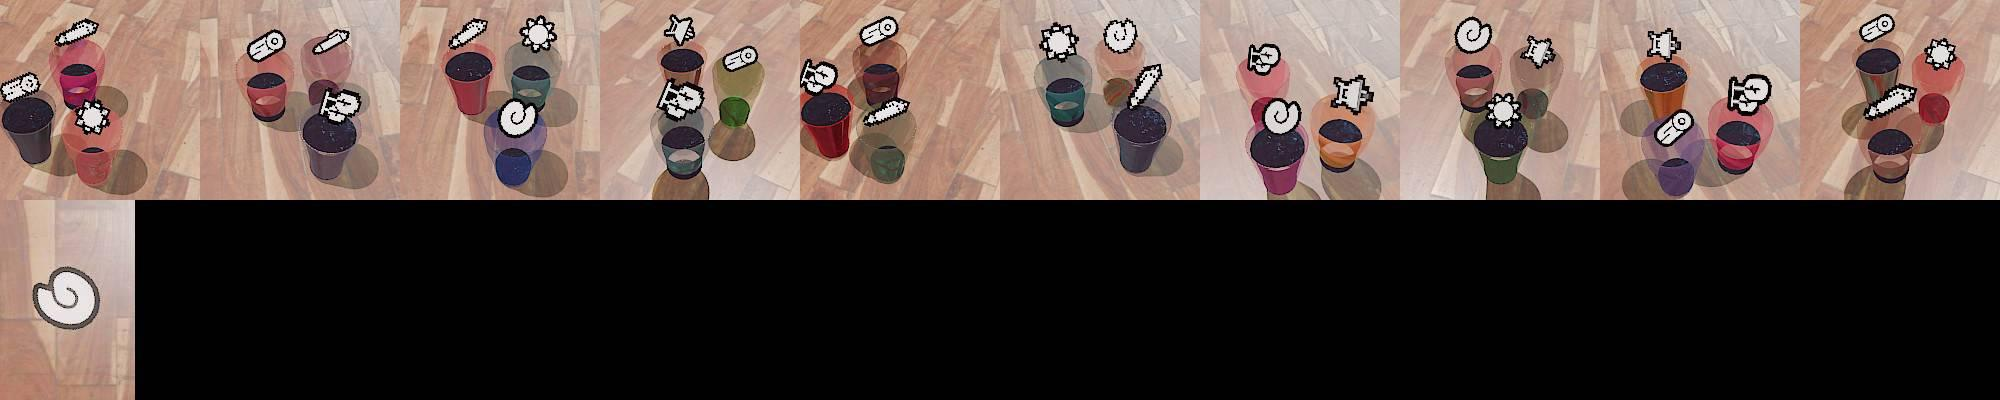icon: (31, 264, 102, 330), (656, 78, 705, 120), (1864, 83, 1920, 120), (1727, 73, 1772, 116), (1330, 73, 1375, 113), (497, 97, 541, 138), (1260, 94, 1302, 135), (1128, 61, 1163, 108), (318, 87, 362, 124), (1038, 23, 1079, 61), (1654, 108, 1695, 146), (518, 15, 557, 54), (800, 59, 839, 96), (73, 98, 111, 135), (1485, 90, 1523, 127), (1454, 17, 1492, 54), (246, 28, 287, 62), (54, 18, 99, 48), (864, 96, 911, 125), (858, 15, 901, 47), (0, 71, 42, 103), (1102, 18, 1138, 55), (448, 18, 489, 50), (1645, 28, 1681, 62), (1520, 34, 1556, 69), (1246, 42, 1283, 75), (662, 14, 698, 47), (1858, 13, 1895, 43), (1923, 38, 1958, 70), (722, 45, 760, 71), (316, 31, 348, 51)
